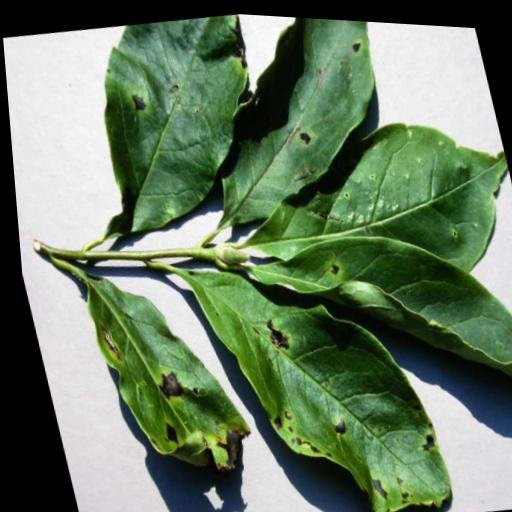Bacterial Spot: (172, 224, 451, 512), (149, 7, 415, 250), (241, 204, 512, 438), (62, 254, 251, 507)
